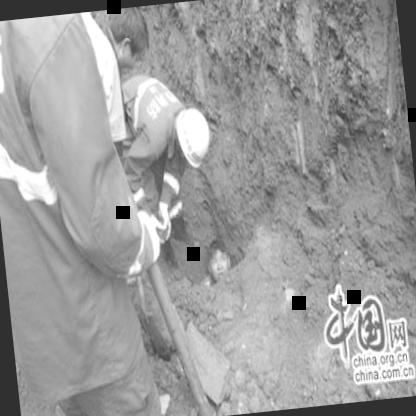head: (98, 6, 156, 73), (201, 232, 237, 286)
helmet: (168, 105, 218, 168)
